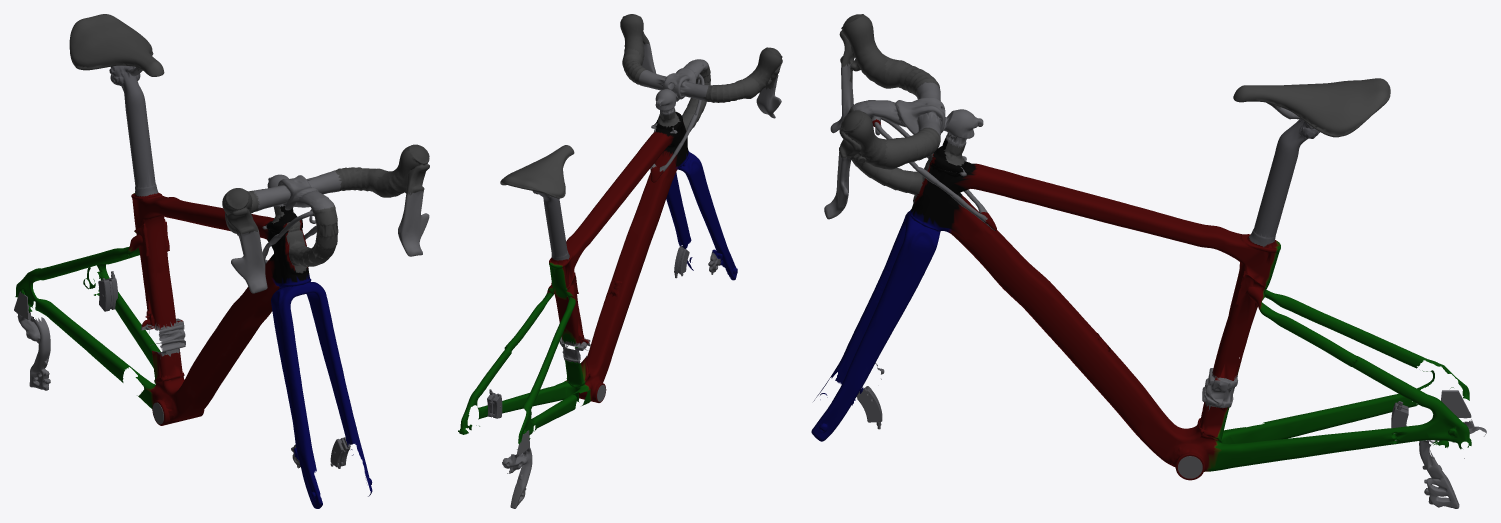
File: roubaix44_lod0.glb
3 renders of one model, left to right at view 1: azimuth 30°, elevation 25°; view 2: azimuth 150°, elevation 25°; view 3: azimuth 270°, elevation 25°, orthographic. The views are drawn at different scales.
Visible parts, largest first — view 1: frame, cockpit, fork, saddle, seatpost, etrier_arriere; view 2: frame, cockpit, fork, saddle, seatpost, etrier_arriere; view 3: frame, cockpit, fork, saddle, seatpost.
Part boxes in pixels (box(x1,y1,x2,y2)): frame: box(14, 192, 338, 425); cockpit: box(222, 144, 429, 293); fork: box(251, 272, 372, 508); saddle: box(69, 14, 164, 147); seatpost: box(130, 143, 158, 196); etrier_arriere: box(98, 271, 117, 311); frame: box(458, 64, 710, 508); cockpit: box(620, 14, 782, 118); fork: box(643, 149, 737, 280); saddle: box(500, 145, 574, 228); seatpost: box(547, 225, 569, 260); etrier_arriere: box(487, 389, 502, 418); frame: box(847, 106, 1486, 508); cockpit: box(824, 14, 983, 219); fork: box(811, 204, 1007, 441); saddle: box(1233, 78, 1390, 194); seatpost: box(1249, 189, 1288, 247).
Size of the model in its own units: 0.415 by 0.7933 by 1.06.
